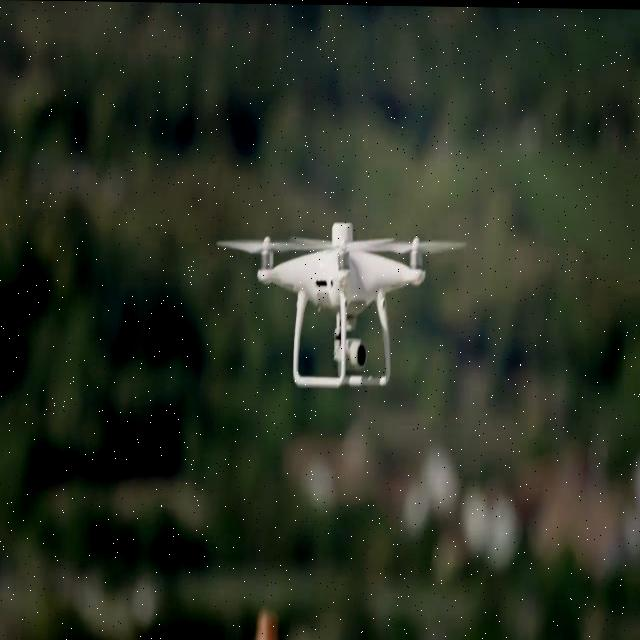drone: (215, 215, 469, 393)
